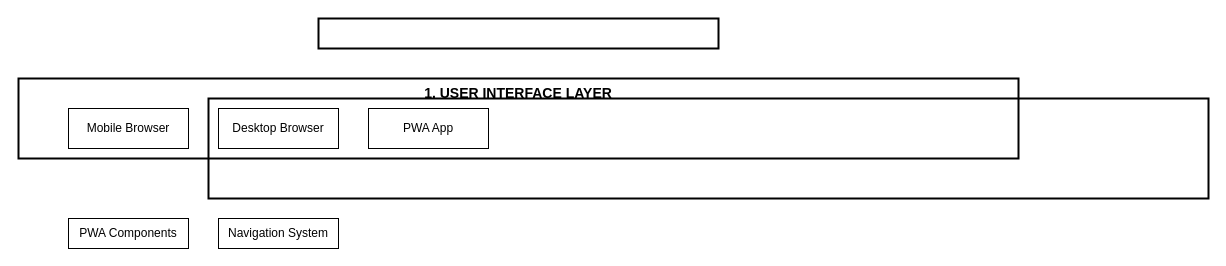
Image size: 1226x266. Some labels were removed from this diagram. The box of each missing label's shape, as (x1, y1, x2, y2) in pixels:
2. PRESENTATION LAYER: (207, 97, 1209, 199)
HealthConnect PWA System - Block Diagram: (317, 17, 719, 49)
